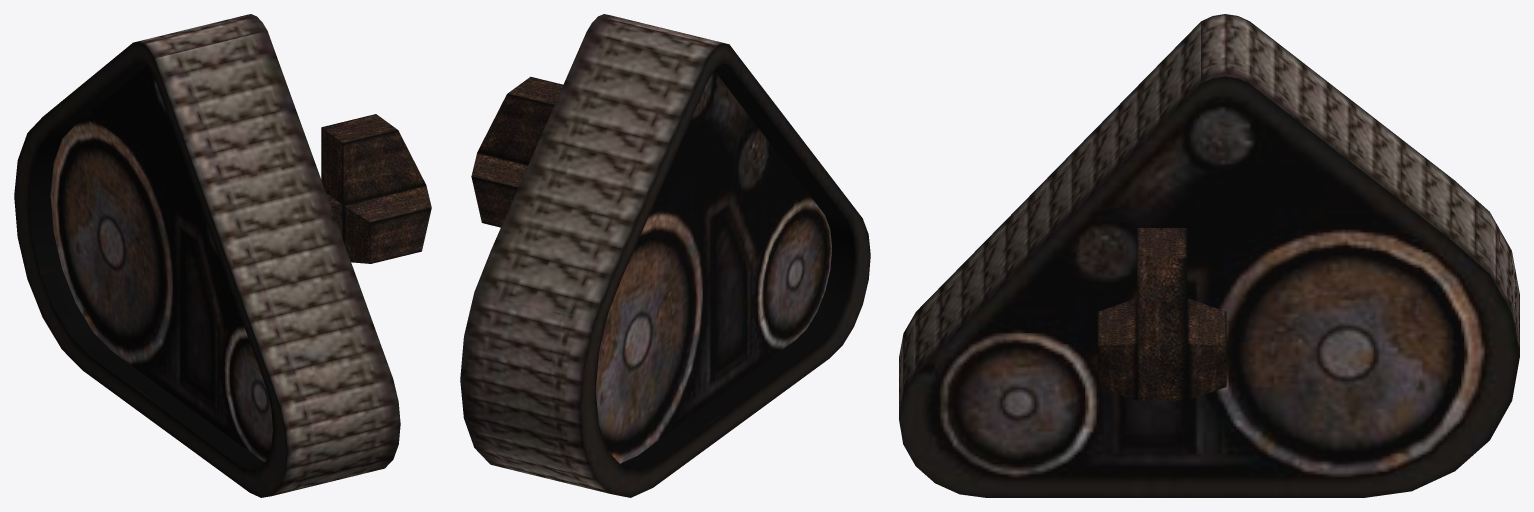
Rendered from rightleg_080417.dae.
3 renders of one model, left to right at view 1: azimuth 30°, elevation 25°; view 2: azimuth 150°, elevation 25°; view 3: azimuth 270°, elevation 25°, orthographic. The views are drawn at different scales.
Visible parts, largest first — view 1: pCube2, pCube3; view 2: pCube2, pCube3; view 3: pCube2, pCube3.
Part boxes in pixels (x1,y1,x2,y2): pCube2: (14,14,400,497); pCube3: (321,114,431,263); pCube2: (460,14,870,497); pCube3: (471,76,562,227); pCube2: (899,14,1519,497); pCube3: (1097,228,1226,400).
Size of the model in its own units: 1.89 by 2.76 by 3.68.
1 material, 1 textured.
